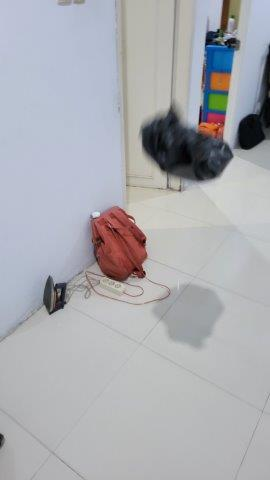plastik: (132, 109, 237, 188)
